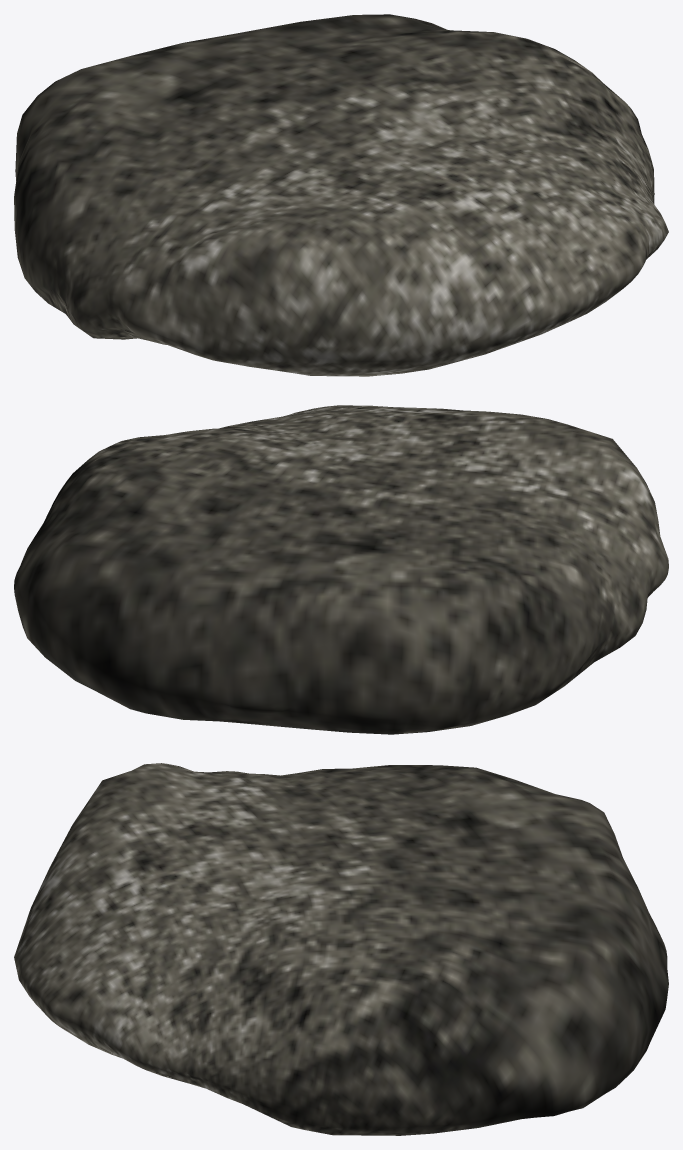
File: Zen_Tile.fbx
The picture shows the model from 3 angles, top to bottom: view 1: azimuth 30°, elevation 25°; view 2: azimuth 150°, elevation 25°; view 3: azimuth 270°, elevation 25°; orthographic projection. The views are drawn at different scales.
Parts seen in each view (by area): view 1: Zen_Disc; view 2: Zen_Disc; view 3: Zen_Disc.
Part boxes in pixels (box(x1,y1,x2,y2)): Zen_Disc: box(14, 14, 668, 376); Zen_Disc: box(14, 405, 668, 734); Zen_Disc: box(14, 763, 668, 1135).
Bounding box in the file's own units: 5.3 × 1.47 × 5.17.
